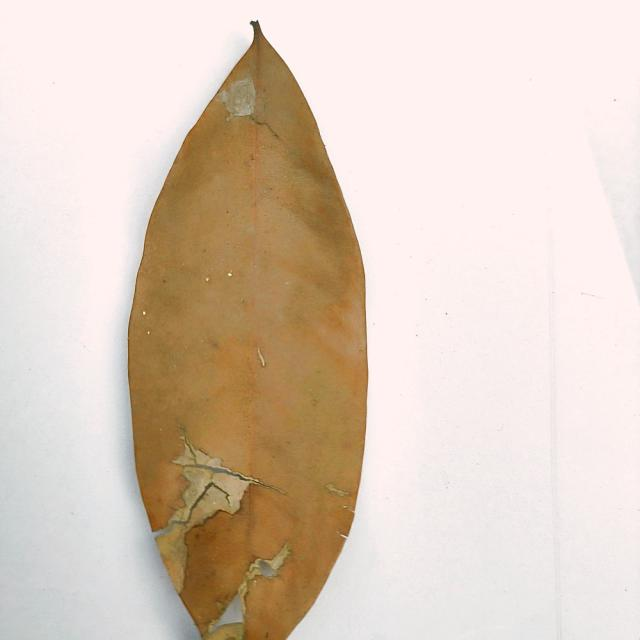Deficiency Leaf: (126, 23, 370, 639)
